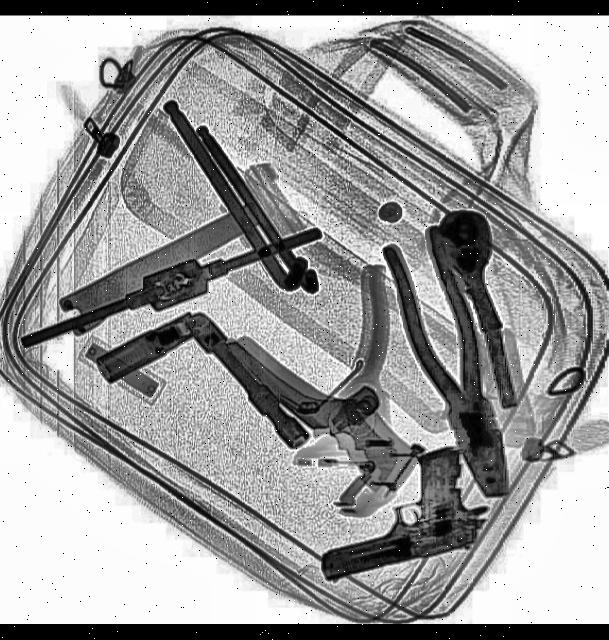Gun: (306, 441, 497, 584)
Pliers: (381, 226, 526, 512)
